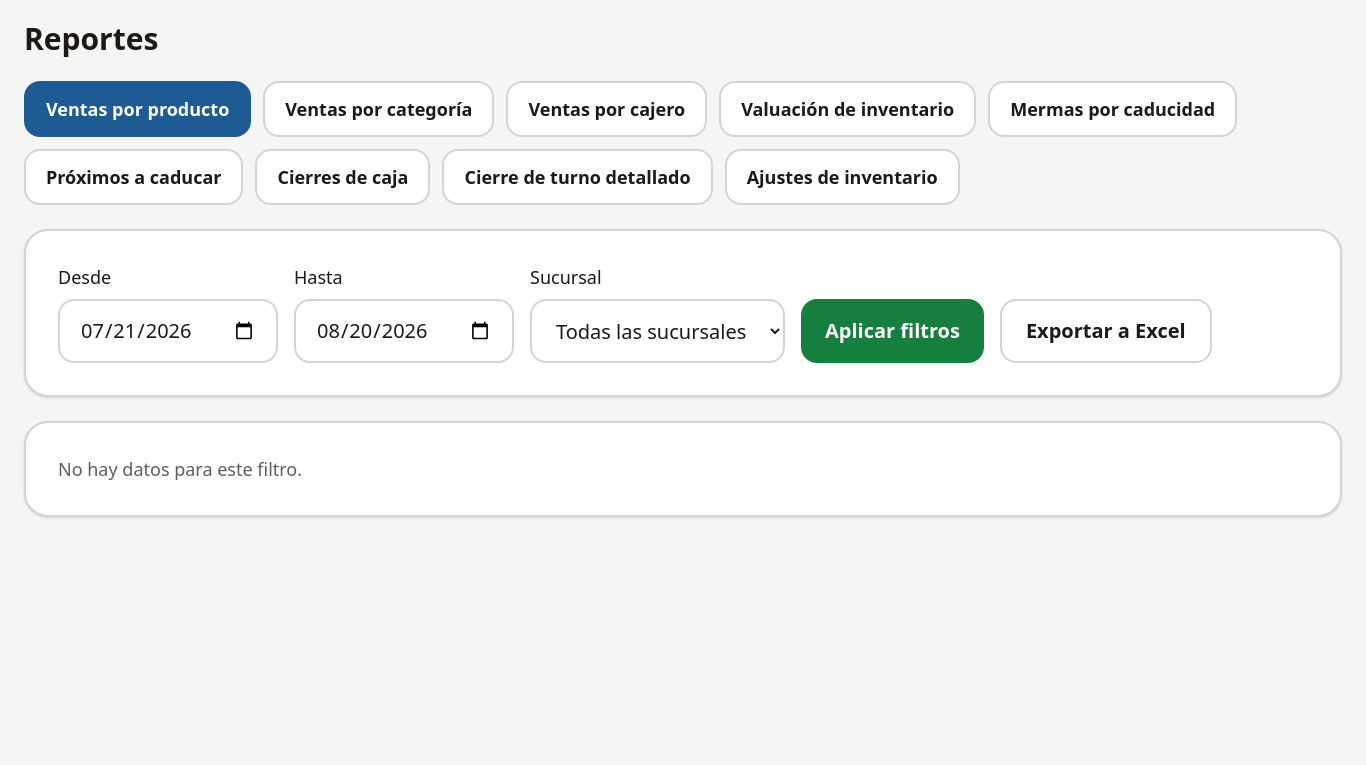
Scenario: ReportsScreen — Cierre de turno detallado (drill-down de un turno) › "Ver detalle" carga y muestra el desglose completo del turno
The width and height of the screenshot is (1366, 765).
Expected: the text "No hay datos para este filtro." is shown, left=58, top=457, right=302, bottom=481
Click the button "Cierre de turno detallado": (578, 177) left=442, top=149, right=713, bottom=205
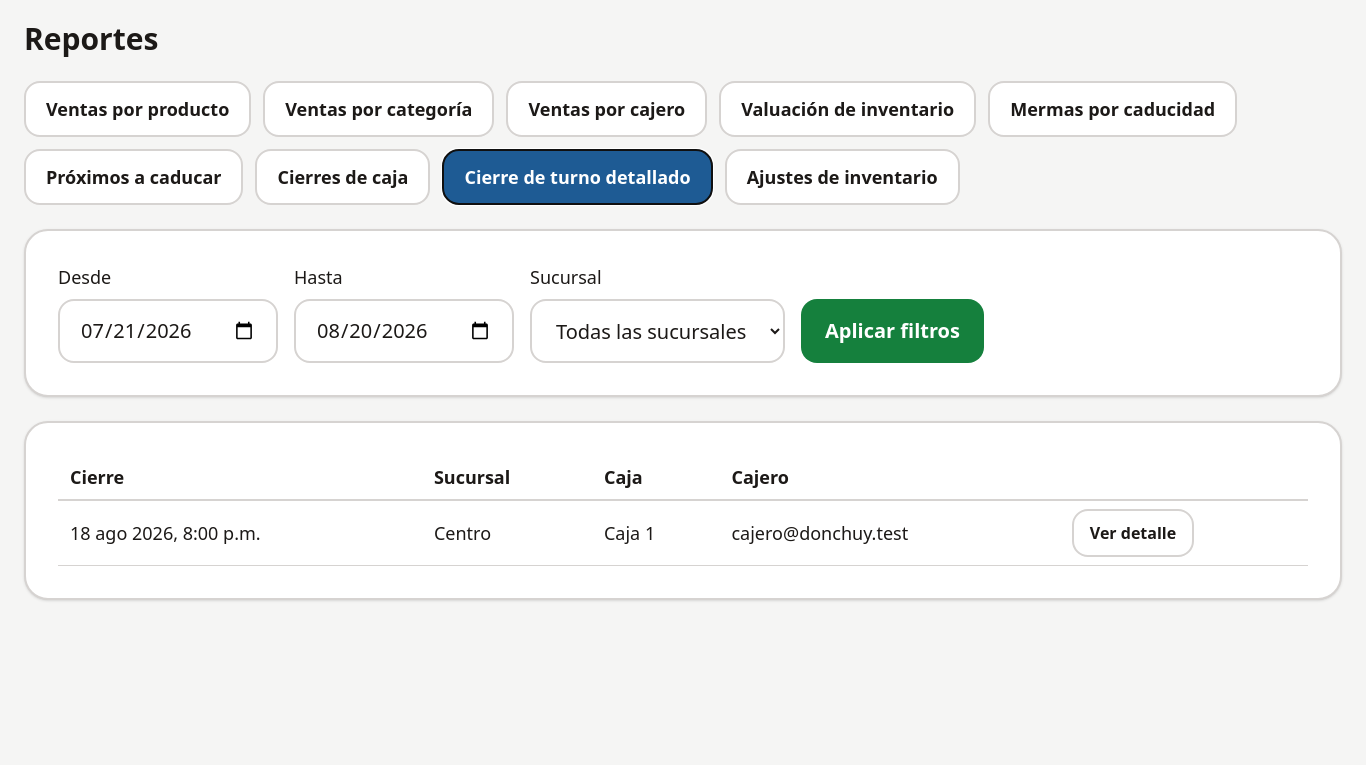
Now the button "Ver detalle" is shown
Click the button "Ver detalle": (1133, 533) left=1072, top=509, right=1194, bottom=557
(page scrolled)
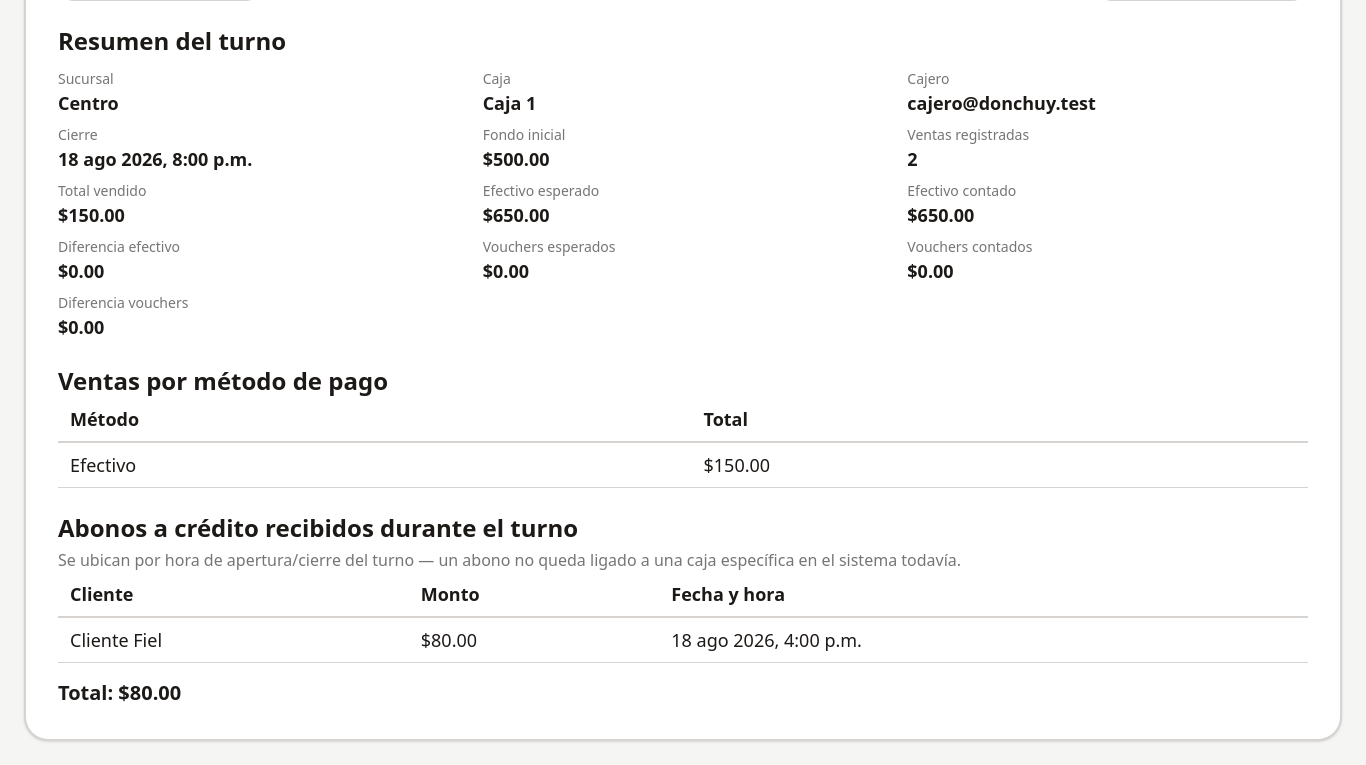
Now the heading "Resumen del turno" is shown, box left=58, top=24, right=286, bottom=57
Now the text "Efectivo" is shown, box left=58, top=442, right=692, bottom=488
Now the text "Cliente Fiel" is shown, box left=58, top=617, right=409, bottom=662
